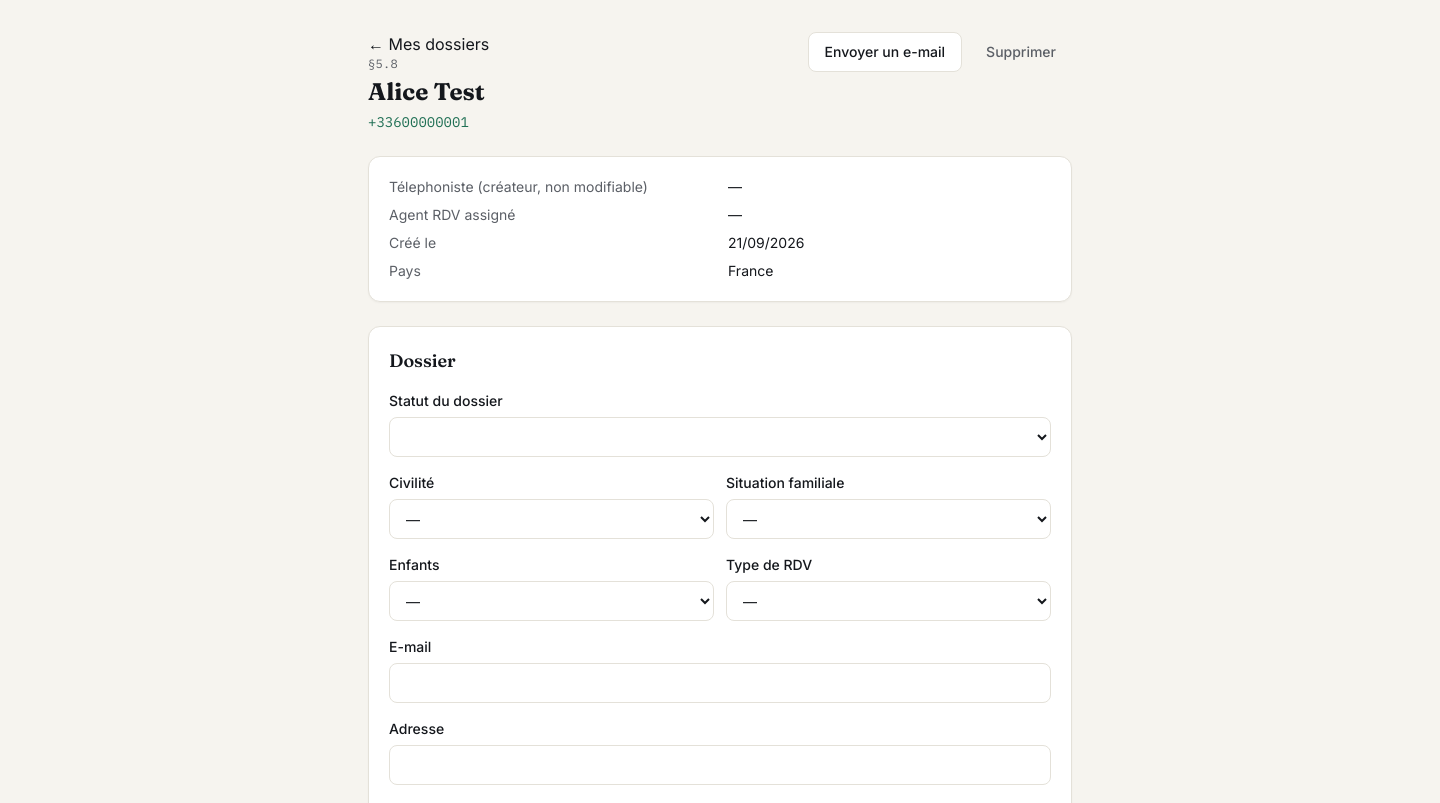
Test: fiche dossier — suppression › 409 (historique d'e-mails) : message backend tel quel, pas de réessai, PAS de redirection, la fiche reste
Click the button "Supprimer".
click(1021, 52)  # box [970,32,1072,72]
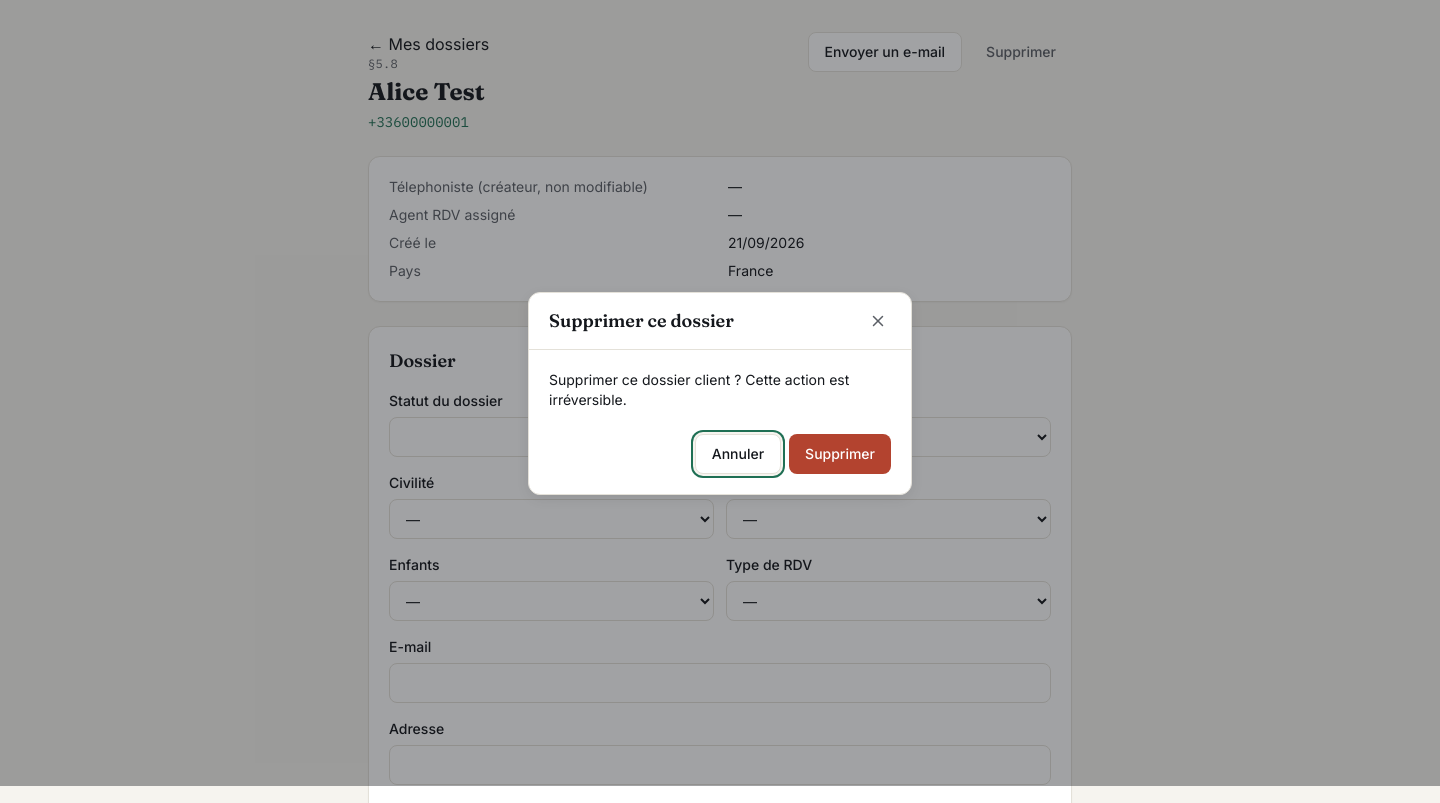
Click the button "Supprimer".
click(840, 454)  # box [789,434,891,474]
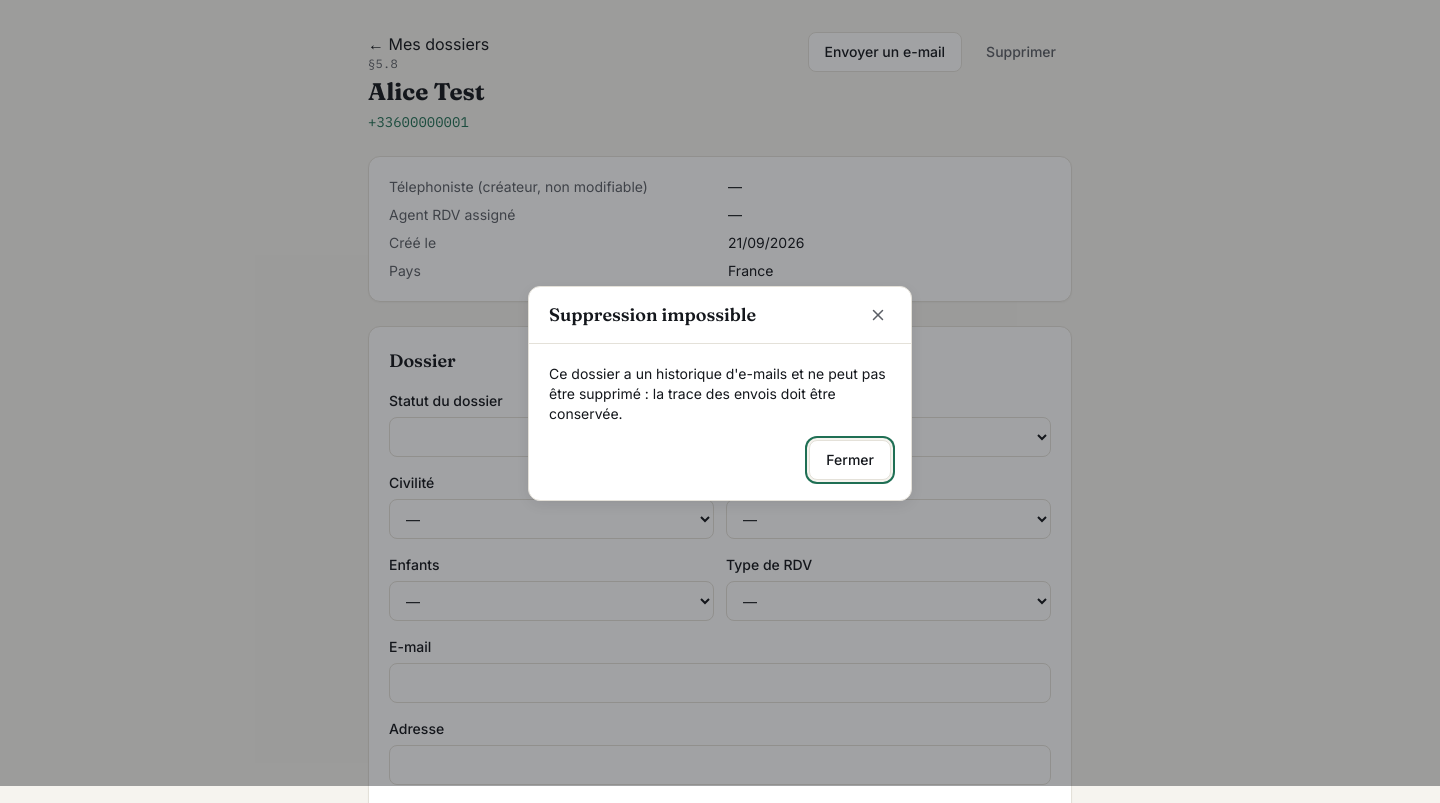
Now the text "Ce dossier a un historique d'e-mails et ne peut pas être supprimé : la trace des envois doit être conservée." is shown, box [549,364,886,422]
Click the button "Fermer".
click(850, 460)  # box [809,440,891,480]
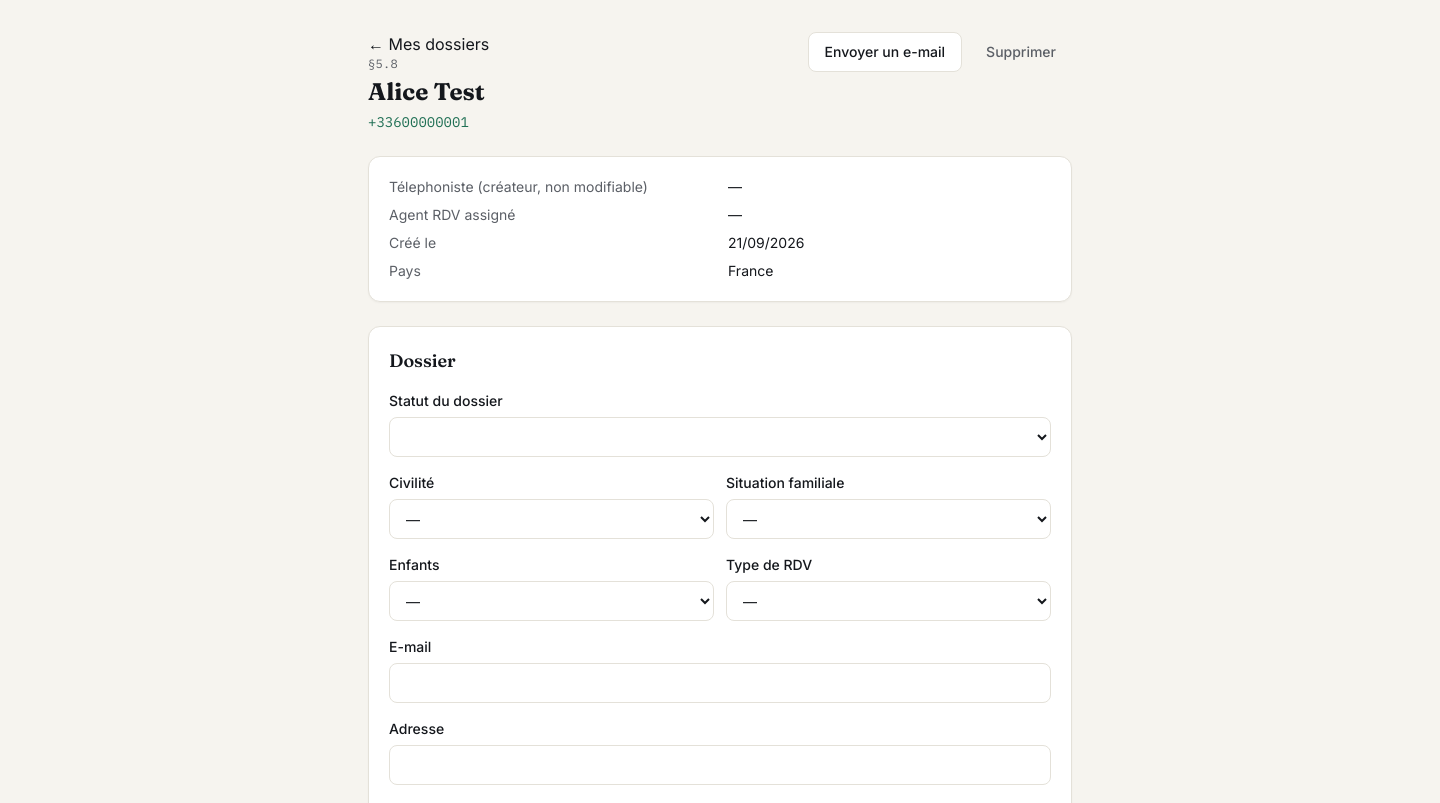
Expected: the heading "Alice Test" is shown, [368,76,489,108]
Now the text "Ce dossier a un historique d'e-mails et ne peut pas être supprimé : la trace des envois doit être conservée." is gone
